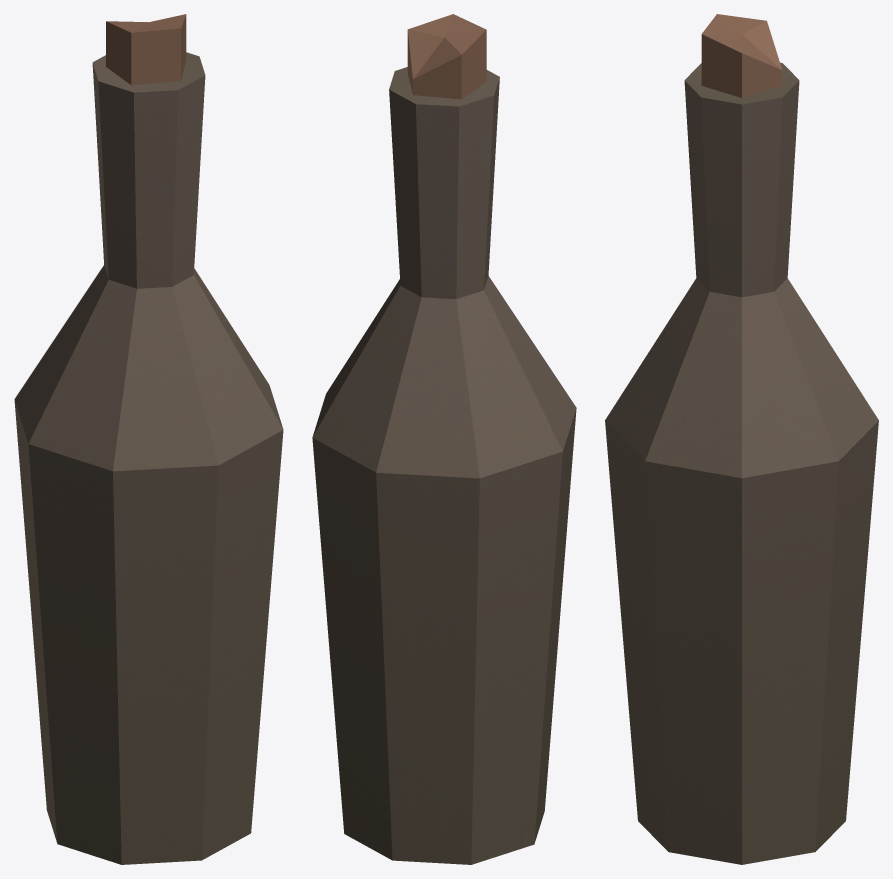
The model's file is Bottle_1.fbx.
The picture shows the model from 3 angles, left to right: view 1: azimuth 30°, elevation 25°; view 2: azimuth 150°, elevation 25°; view 3: azimuth 270°, elevation 25°; orthographic projection.
Visible parts, largest first — view 1: pCylinder168; view 2: pCylinder168; view 3: pCylinder168.
Part boxes in pixels (x1,y1,x2,y2): pCylinder168: (14,14,283,864); pCylinder168: (312,14,576,864); pCylinder168: (605,14,878,864).
Size of the model in its own units: 15.59 by 49.76 by 15.59.
